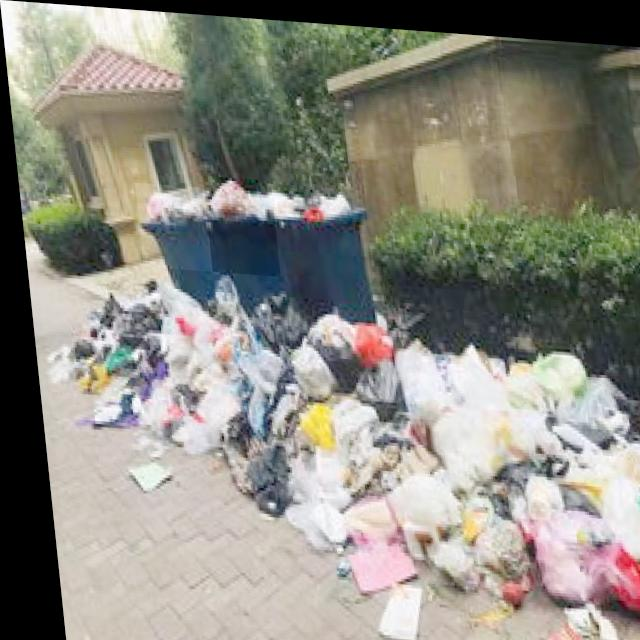garbage: (30, 259, 640, 640)
overflow: (267, 180, 369, 315), (199, 173, 278, 305), (131, 181, 215, 303)
